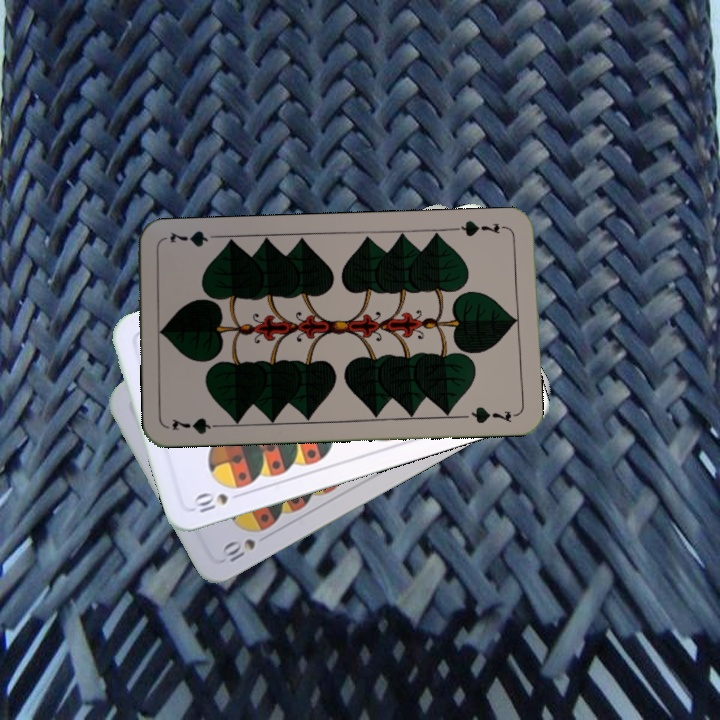G7: (168, 413, 227, 437), (451, 216, 510, 239)
S10: (189, 488, 247, 517), (217, 534, 258, 567)
